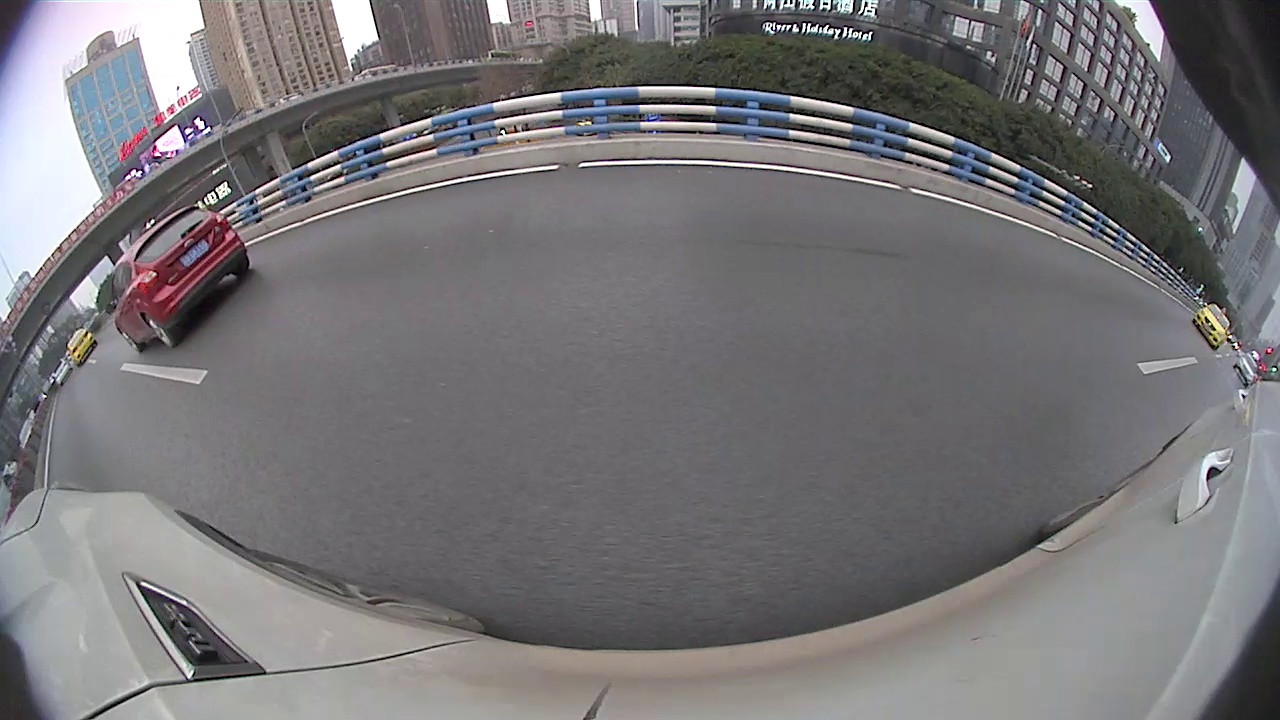car: (109, 202, 255, 355), (1192, 299, 1229, 355), (61, 326, 102, 367)
front: (119, 329, 145, 353)
rear: (142, 314, 175, 347)
